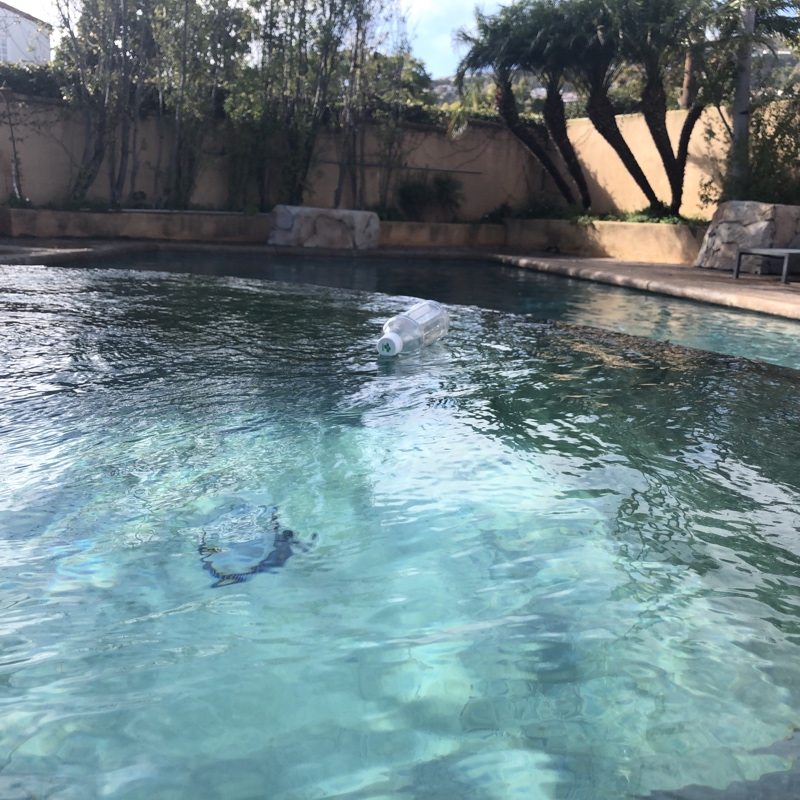Plastic Bottle: (376, 299, 449, 360)
